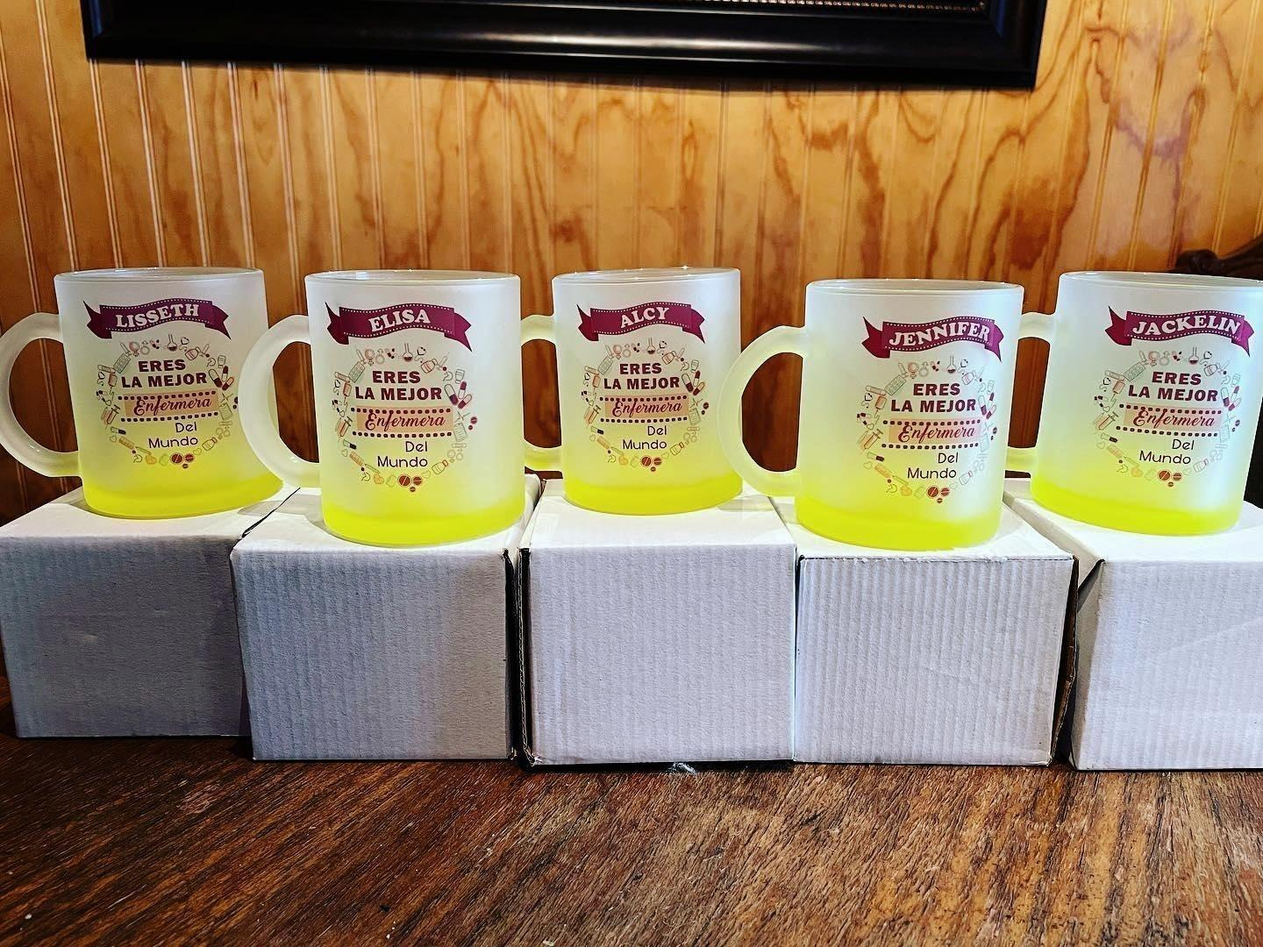glass-mug: (739, 271, 1035, 567), (239, 260, 535, 546), (999, 267, 1263, 550), (6, 262, 287, 527), (520, 256, 753, 526)
